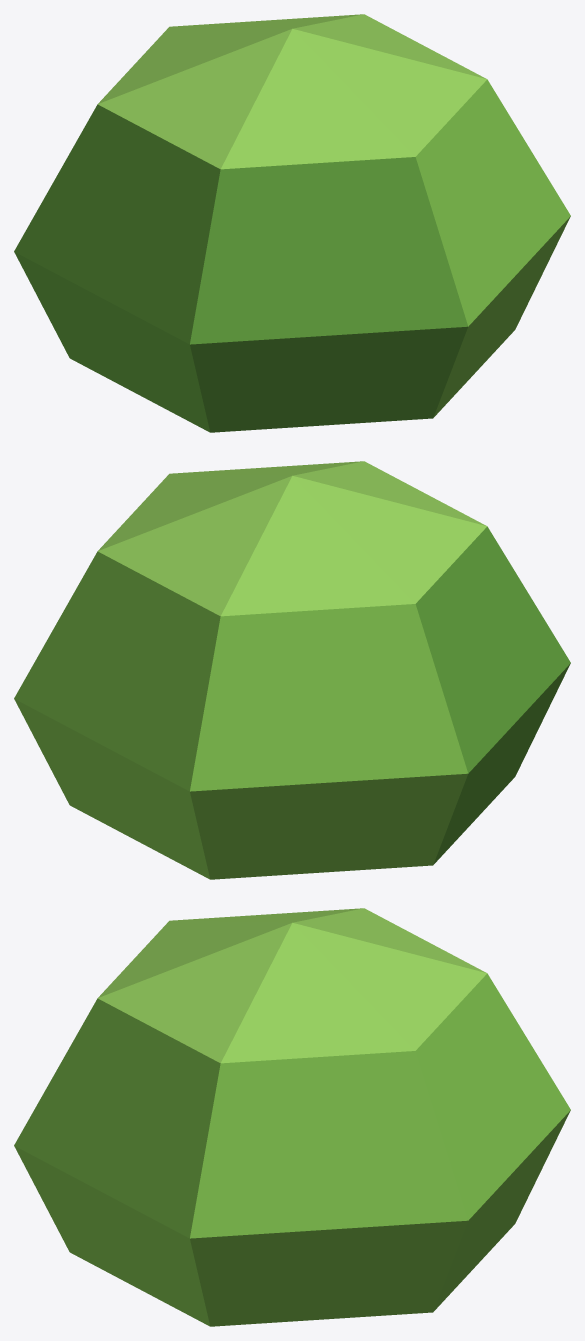
File: plant_bushSmall.glb
3 renders of one model, top to bottom at view 1: azimuth 30°, elevation 25°; view 2: azimuth 150°, elevation 25°; view 3: azimuth 270°, elevation 25°, orthographic.
Parts seen in each view (by area): view 1: plant_bushSmall; view 2: plant_bushSmall; view 3: plant_bushSmall.
Boxes of the visible parts, bbox=[...] form: plant_bushSmall: bbox=[14, 14, 570, 432]; plant_bushSmall: bbox=[14, 461, 570, 879]; plant_bushSmall: bbox=[14, 908, 570, 1326].
Bounding box in the file's own units: 0.3166 × 0.21 × 0.3362.
1 material, 1 textured.
